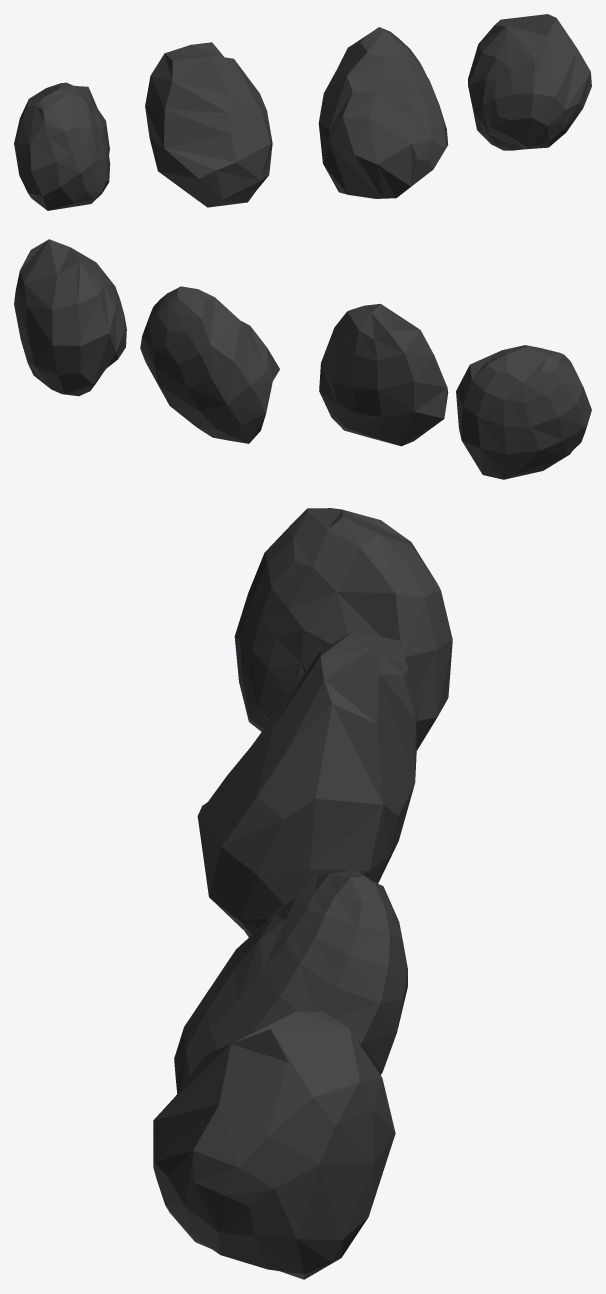
Rendered from Proximal_Sesamoids_Sesamoids_001.glb.
3 renders of one model, top to bottom at view 1: azimuth 30°, elevation 25°; view 2: azimuth 150°, elevation 25°; view 3: azimuth 270°, elevation 25°, orthographic. The views are drawn at different scales.
Parts seen in each view (by area): view 1: Proximal_Sesamoids_Sesamoids_001; view 2: Proximal_Sesamoids_Sesamoids_001; view 3: Proximal_Sesamoids_Sesamoids_001.
Boxes of the visible parts, x1,y1,x2,y2 form: Proximal_Sesamoids_Sesamoids_001: [14, 14, 591, 210]; Proximal_Sesamoids_Sesamoids_001: [14, 239, 591, 479]; Proximal_Sesamoids_Sesamoids_001: [153, 508, 452, 1279].
Bounding box in the file's own units: 0.1078 × 0.0323 × 0.0255.
1 material, 1 textured.
